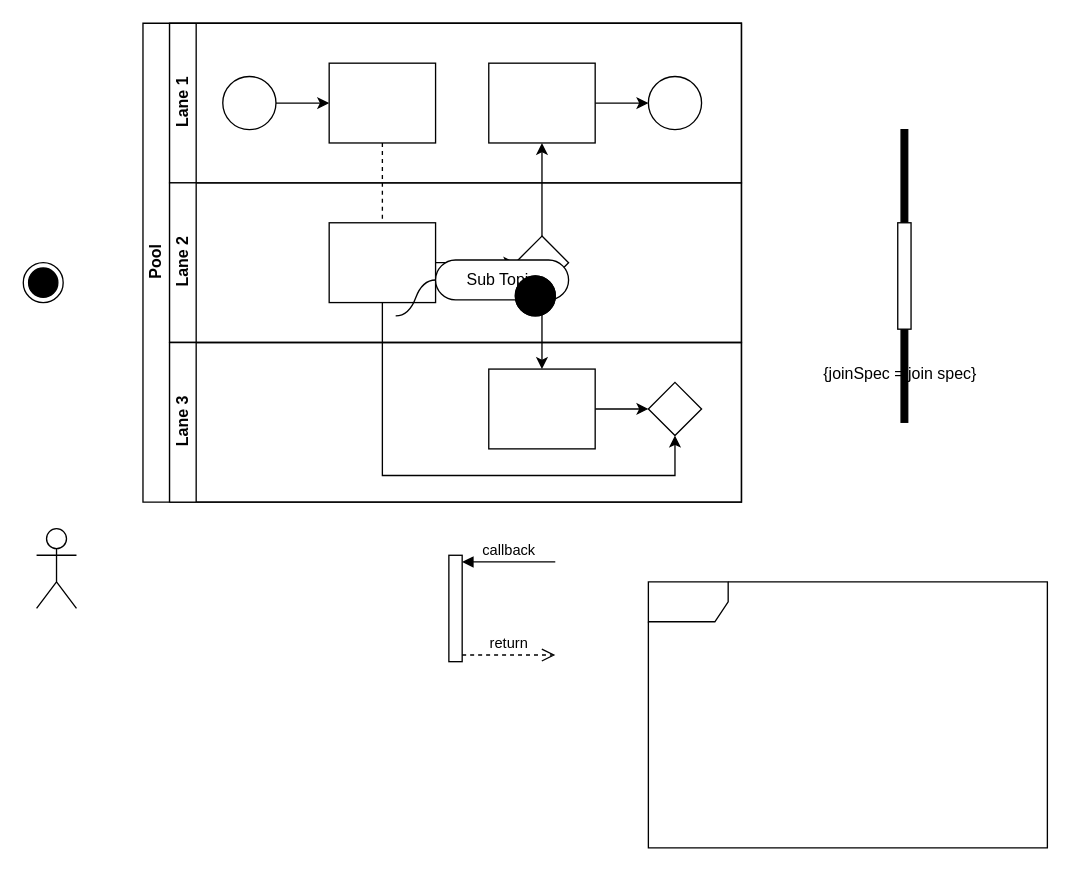
The diagram is 1071 pixels wide and 871 high, and some of its shapes have lost their labels. The shapes that lost their labels are listed below. From the top down, each one's centre as x and y in pixels, then its label:
At [55,567]: "Actor".
At [847,714]: "frame".
